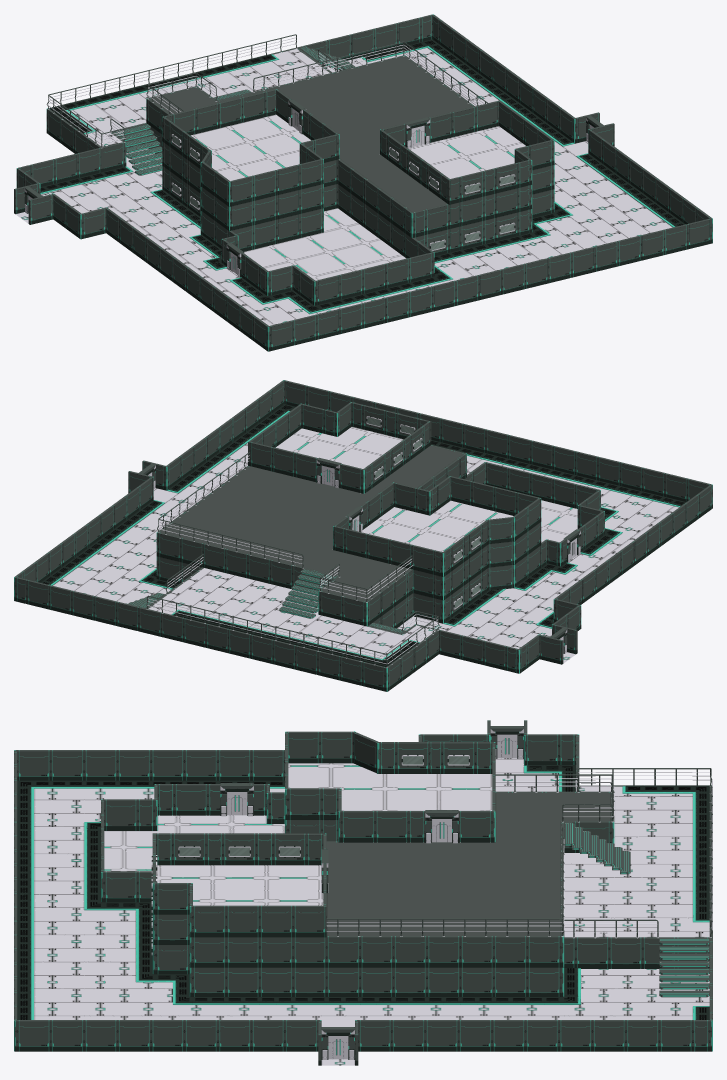
Rendered from Environment Dungeon 1.fbx.
3 views of the same model, one above another, from view 1: azimuth 30°, elevation 25°; view 2: azimuth 150°, elevation 25°; view 3: azimuth 270°, elevation 25° (orthographic). The views are drawn at different scales.
Parts seen in each view (by area): view 1: MainFloor1, MainFloor3, BigWall, MainFloor2, BigWall.007, BigWall.004, BigWall.033, BigWall.001, BigWall.005, BigWall.059, BigWall.045, BigWall.041 (+31 smaller); view 2: MainFloor3, MainFloor1, BigWall.005, MainFloor2, BigWall, BigWall.007, BigWall.017, BigWall.004, BigWall.001, BigWall.033, BigWall.041, BigWall.059 (+33 smaller); view 3: MainFloor3, MainFloor1, MainFloor2, BigWall.023, BigWall.024, BigWall.004, BigWall.001, BigWall.007, BigWall.048, SideFloor.003, BigWall.021, Stair.002 (+41 smaller).
Boxes of the visible parts, x1,y1,x2,y2 form: MainFloor1: [16, 47, 672, 325]; MainFloor3: [150, 56, 525, 212]; BigWall: [269, 218, 710, 351]; MainFloor2: [69, 49, 329, 146]; BigWall.007: [106, 208, 268, 350]; BigWall.004: [439, 20, 574, 141]; BigWall.033: [316, 252, 432, 304]; BigWall.001: [589, 130, 711, 224]; BigWall.005: [49, 17, 420, 108]; BigWall.059: [230, 159, 323, 206]; BigWall.045: [230, 184, 323, 230]; BigWall.041: [172, 92, 265, 135]; MainFloor3: [160, 427, 513, 601]; MainFloor1: [53, 443, 678, 663]; BigWall.005: [27, 580, 385, 691]; MainFloor2: [148, 568, 436, 659]; BigWall: [284, 380, 710, 501]; BigWall.007: [555, 485, 711, 604]; BigWall.017: [158, 532, 338, 590]; BigWall.004: [21, 477, 152, 582]; BigWall.001: [166, 381, 284, 488]; BigWall.033: [486, 462, 598, 508]; BigWall.041: [345, 528, 435, 574]; BigWall.059: [450, 476, 539, 515]; MainFloor3: [156, 763, 610, 935]; MainFloor1: [34, 758, 709, 1065]; MainFloor2: [564, 786, 709, 937]; BigWall.023: [193, 936, 560, 967]; BigWall.024: [193, 967, 560, 996]; BigWall.004: [358, 1020, 692, 1051]; BigWall.001: [17, 1020, 318, 1051]; BigWall.007: [17, 750, 284, 780]; BigWall.048: [193, 905, 326, 937]; SideFloor.003: [17, 787, 33, 1019]; BigWall.021: [564, 937, 709, 968]; Stair.002: [659, 938, 709, 997].
Size of the model in its own units: 6690 by 900 by 6270.
